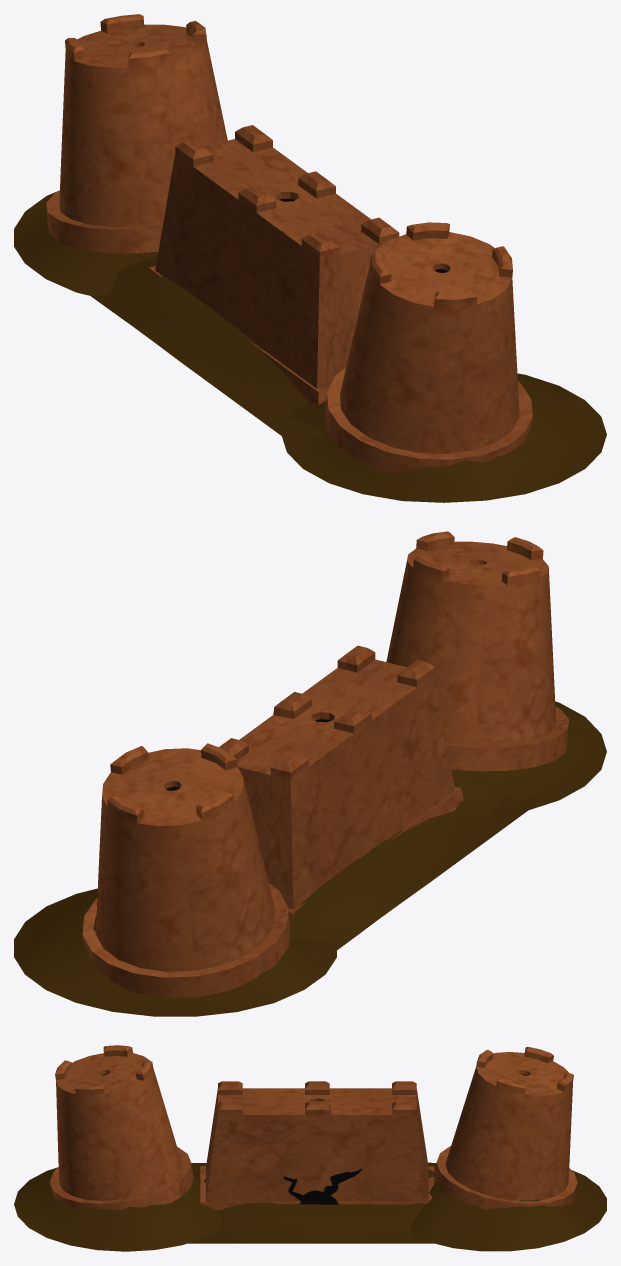
File: Castle 5.fbx
3 renders of one model, top to bottom at view 1: azimuth 30°, elevation 25°; view 2: azimuth 150°, elevation 25°; view 3: azimuth 270°, elevation 25°, orthographic. The views are drawn at different scales.
Visible parts, largest first — view 1: pCylinder655, pCube4883, pCylinder662, pDisc1, pPlane1, pDisc2; view 2: pCylinder662, pCube4883, pCylinder655, pDisc2, pPlane1, pDisc1; view 3: pCube4883, pCylinder655, pCylinder662, pDisc1, pDisc2, pPlane1.
Part boxes in pixels (x1,y1,x2,y2): pCylinder655: (325,222,532,473); pCube4883: (148,125,399,404); pCylinder662: (46,14,227,253); pDisc1: (282,373,606,502); pPlane1: (90,256,324,447); pDisc2: (14,190,158,296); pCylinder662: (82,743,290,998); pCube4883: (219,645,463,915); pCylinder655: (386,531,569,771); pDisc2: (14,888,336,1016); pPlane1: (289,793,543,950); pDisc1: (451,701,606,817); pCube4883: (199,1081,434,1210); pCylinder655: (50,1045,193,1209); pCylinder662: (434,1047,577,1209); pDisc1: (14,1167,220,1251); pDisc2: (410,1170,606,1251); pPlane1: (188,1162,436,1243).
Size of the model in its own units: 122 by 83.22 by 322.
